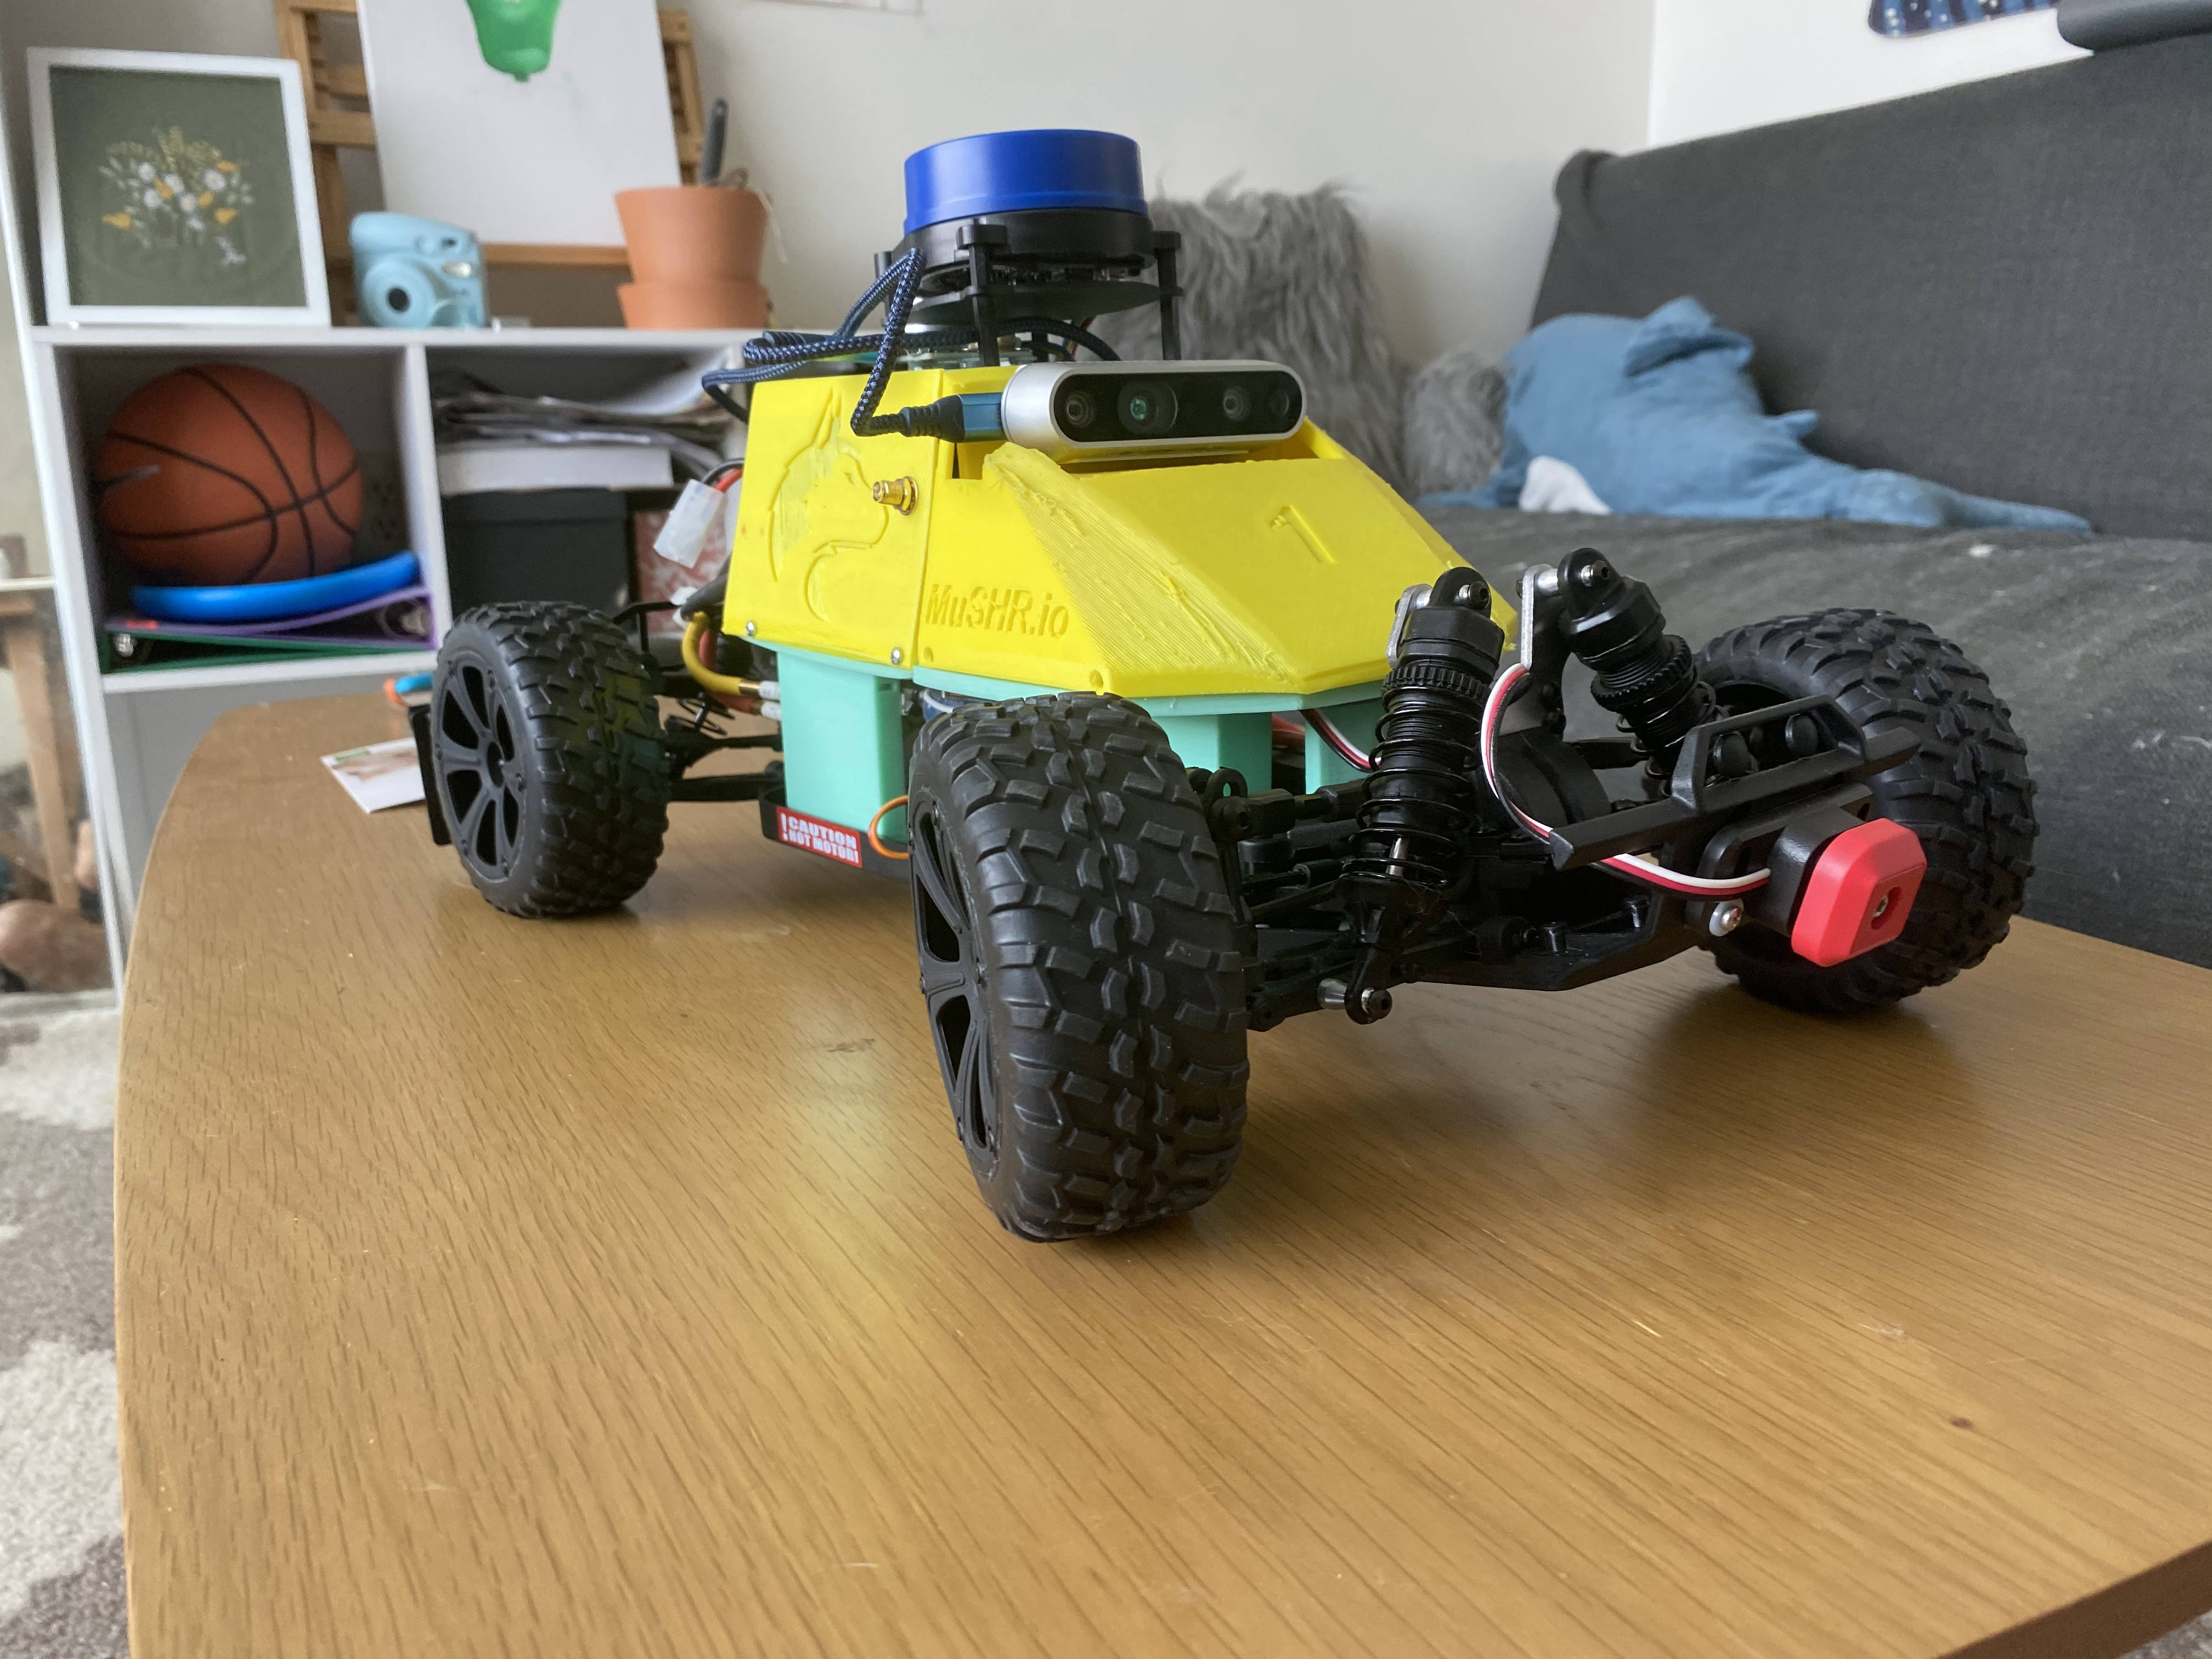mushr_car: (385, 127, 2048, 1249)
